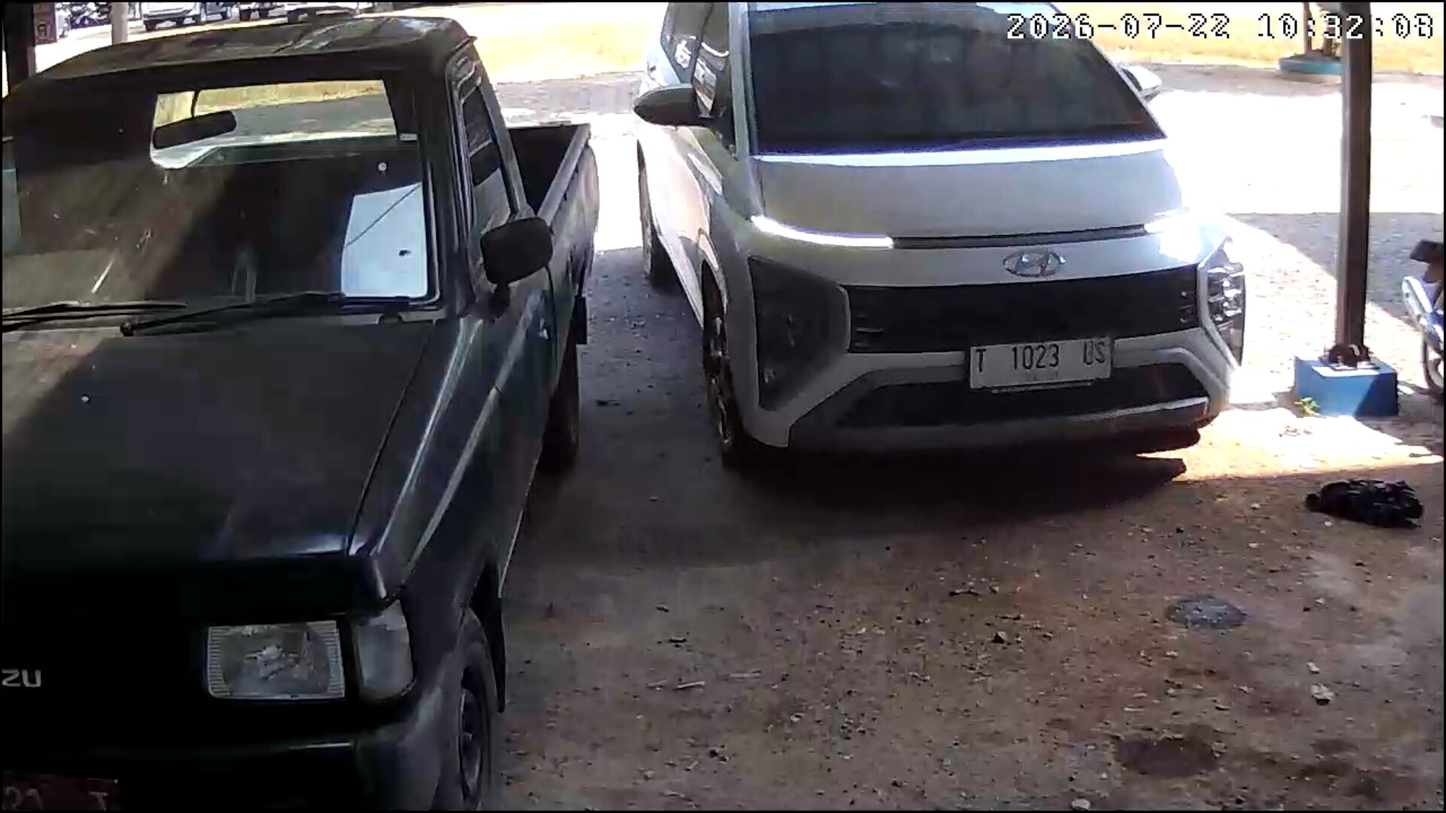plat nomor: (966, 334, 1114, 395)
